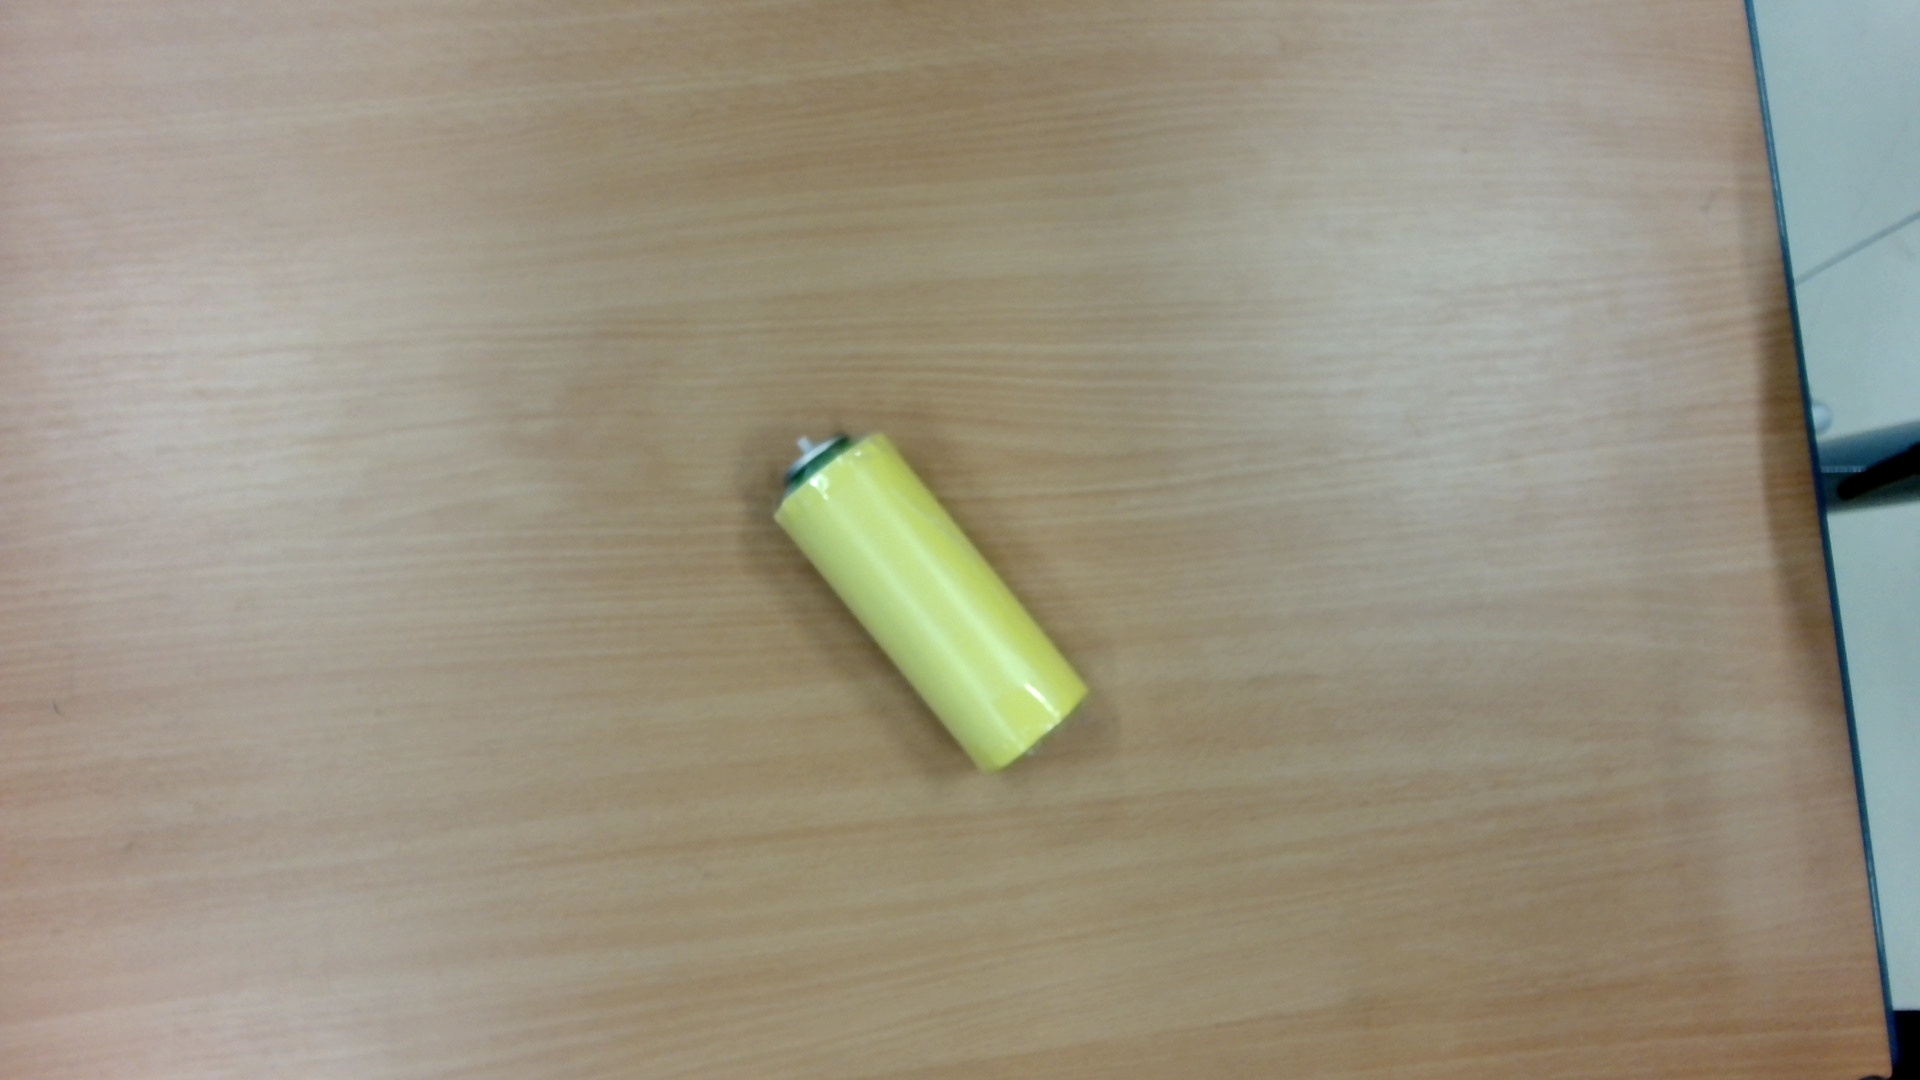Cylinder: (753, 413, 1112, 793)
